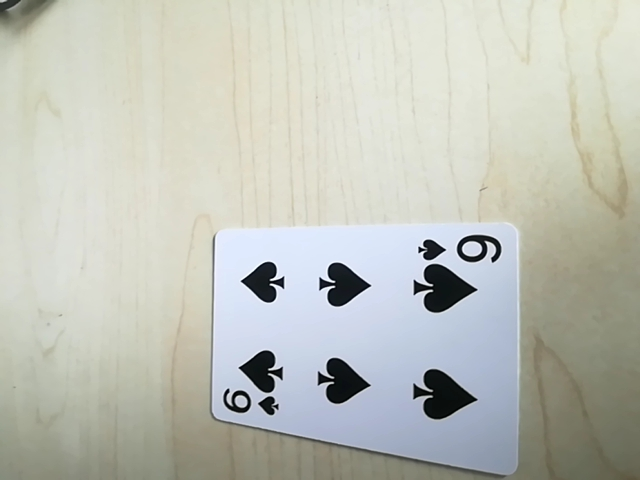ht 6: (414, 227, 506, 265), (217, 390, 283, 421)
